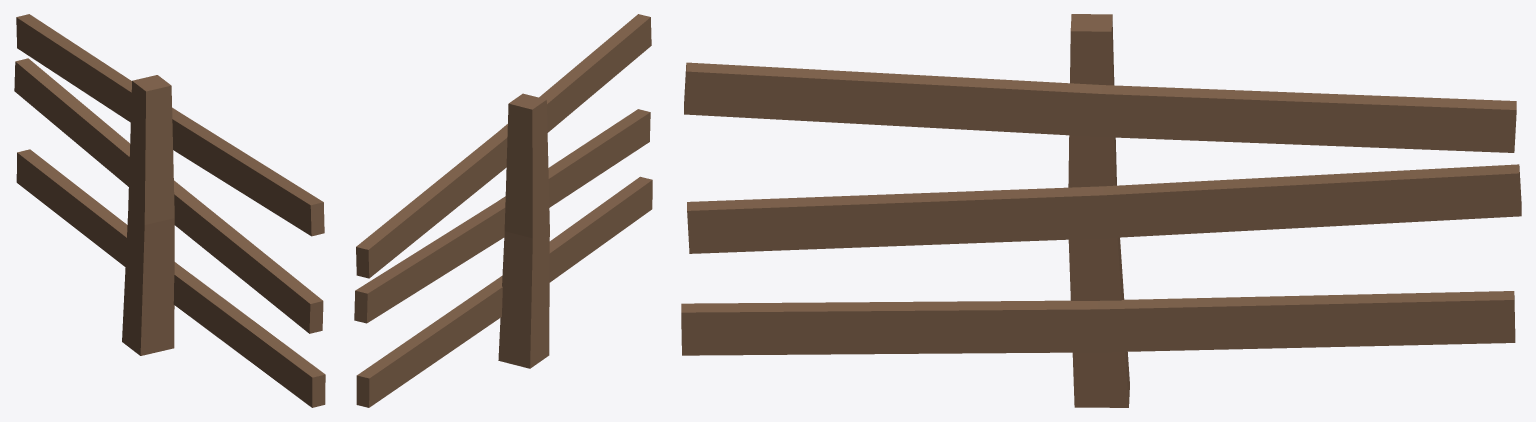
The model's file is mesh_fence _4.fbx.
3 renders of one model, left to right at view 1: azimuth 30°, elevation 25°; view 2: azimuth 150°, elevation 25°; view 3: azimuth 270°, elevation 25°, orthographic. The views are drawn at different scales.
Parts seen in each view (by area): view 1: Fance _4; view 2: Fance _4; view 3: Fance _4.
Boxes of the visible parts, x1=… form: Fance _4: x1=14, y1=14, x2=325, y2=407; Fance _4: x1=354, y1=14, x2=652, y2=407; Fance _4: x1=681, y1=14, x2=1521, y2=407.
Bounding box in the file's own units: 0.1372 × 0.7677 × 1.57.
